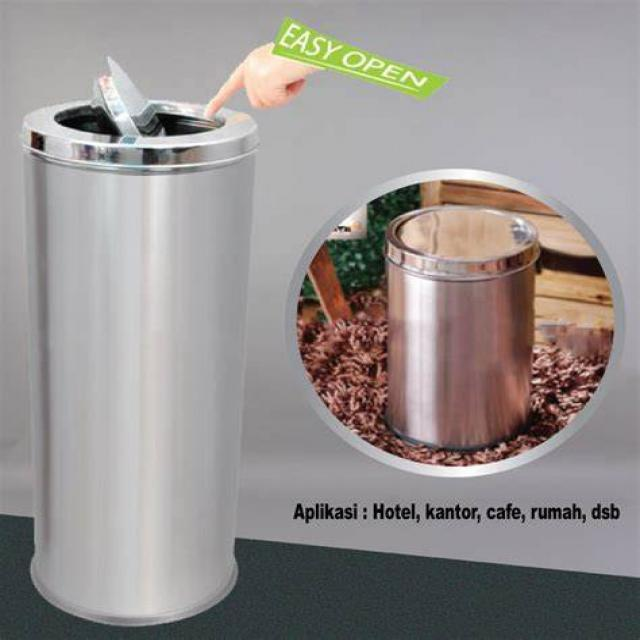garbage container: (22, 29, 264, 640), (356, 185, 616, 478)
